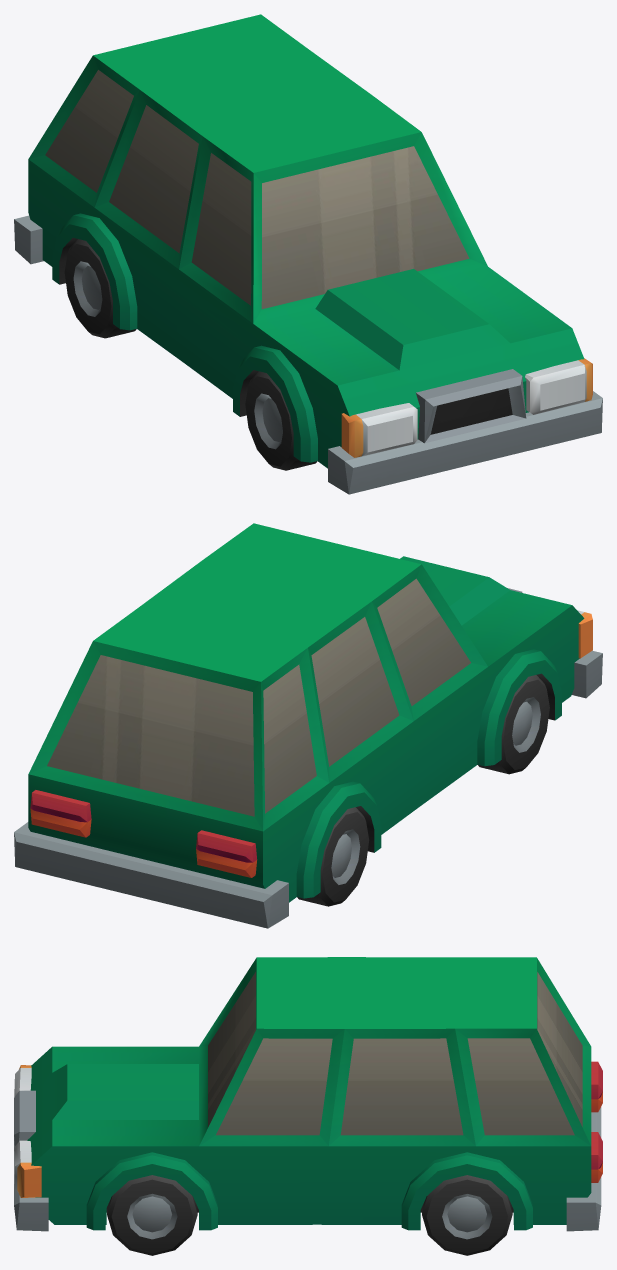
Rendered from wagon.glb.
The picture shows the model from 3 angles, top to bottom: view 1: azimuth 30°, elevation 25°; view 2: azimuth 150°, elevation 25°; view 3: azimuth 270°, elevation 25°; orthographic projection. The views are drawn at different scales.
Parts seen in each view (by area): view 1: car_stationwagon, wheel-front-right, wheel-back-right; view 2: car_stationwagon, wheel-back-right, wheel-front-right; view 3: car_stationwagon, wheel-front-left, wheel-back-left.
Part boxes in pixels (bbox=[...]): car_stationwagon: bbox=[14, 14, 602, 494]; wheel-front-right: bbox=[245, 371, 317, 470]; wheel-back-right: bbox=[64, 239, 136, 338]; car_stationwagon: bbox=[14, 523, 602, 928]; wheel-back-right: bbox=[297, 807, 369, 906]; wheel-front-right: bbox=[478, 675, 549, 774]; car_stationwagon: bbox=[14, 957, 602, 1231]; wheel-front-left: bbox=[107, 1175, 197, 1255]; wheel-back-left: bbox=[422, 1175, 512, 1255].
Size of the model in its own units: 2.1 by 1.85 by 4.7.
1 material, 1 textured.
